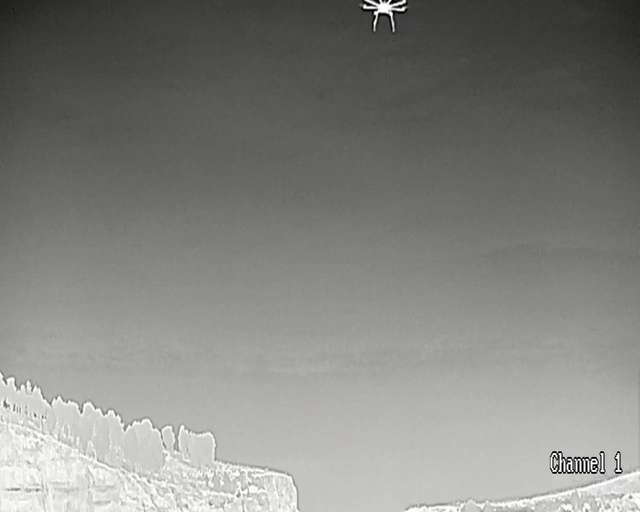uav: (358, 0, 409, 32)
